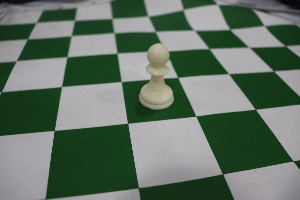white_pawn: (131, 35, 181, 114)
